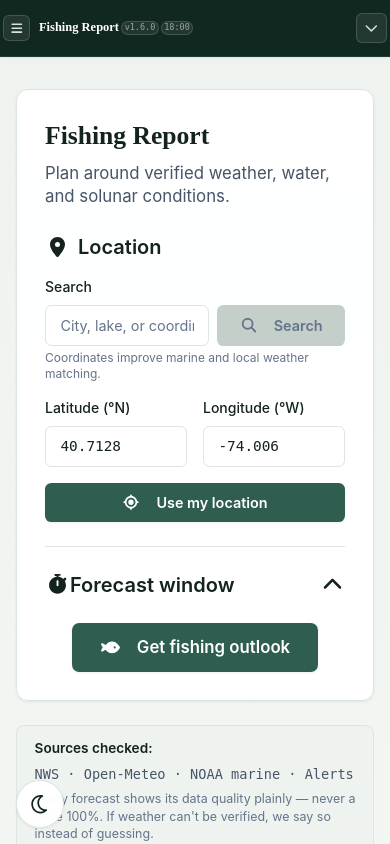
Test case: App drawer trigger › shows a down caret when the mobile menu is closed and an up caret when open
Check: the picture with class "mobile-menu-toggle__caret" is shown, box [363,21,380,35]
Step 1. Click the button named "toggle navigation" → (372, 28), box [356,13,387,43]
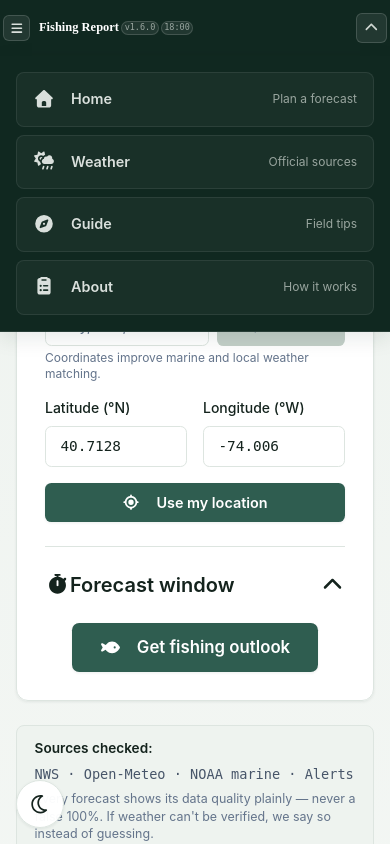
Check: the button named "toggle navigation" is expanded, box [356,13,387,43]
